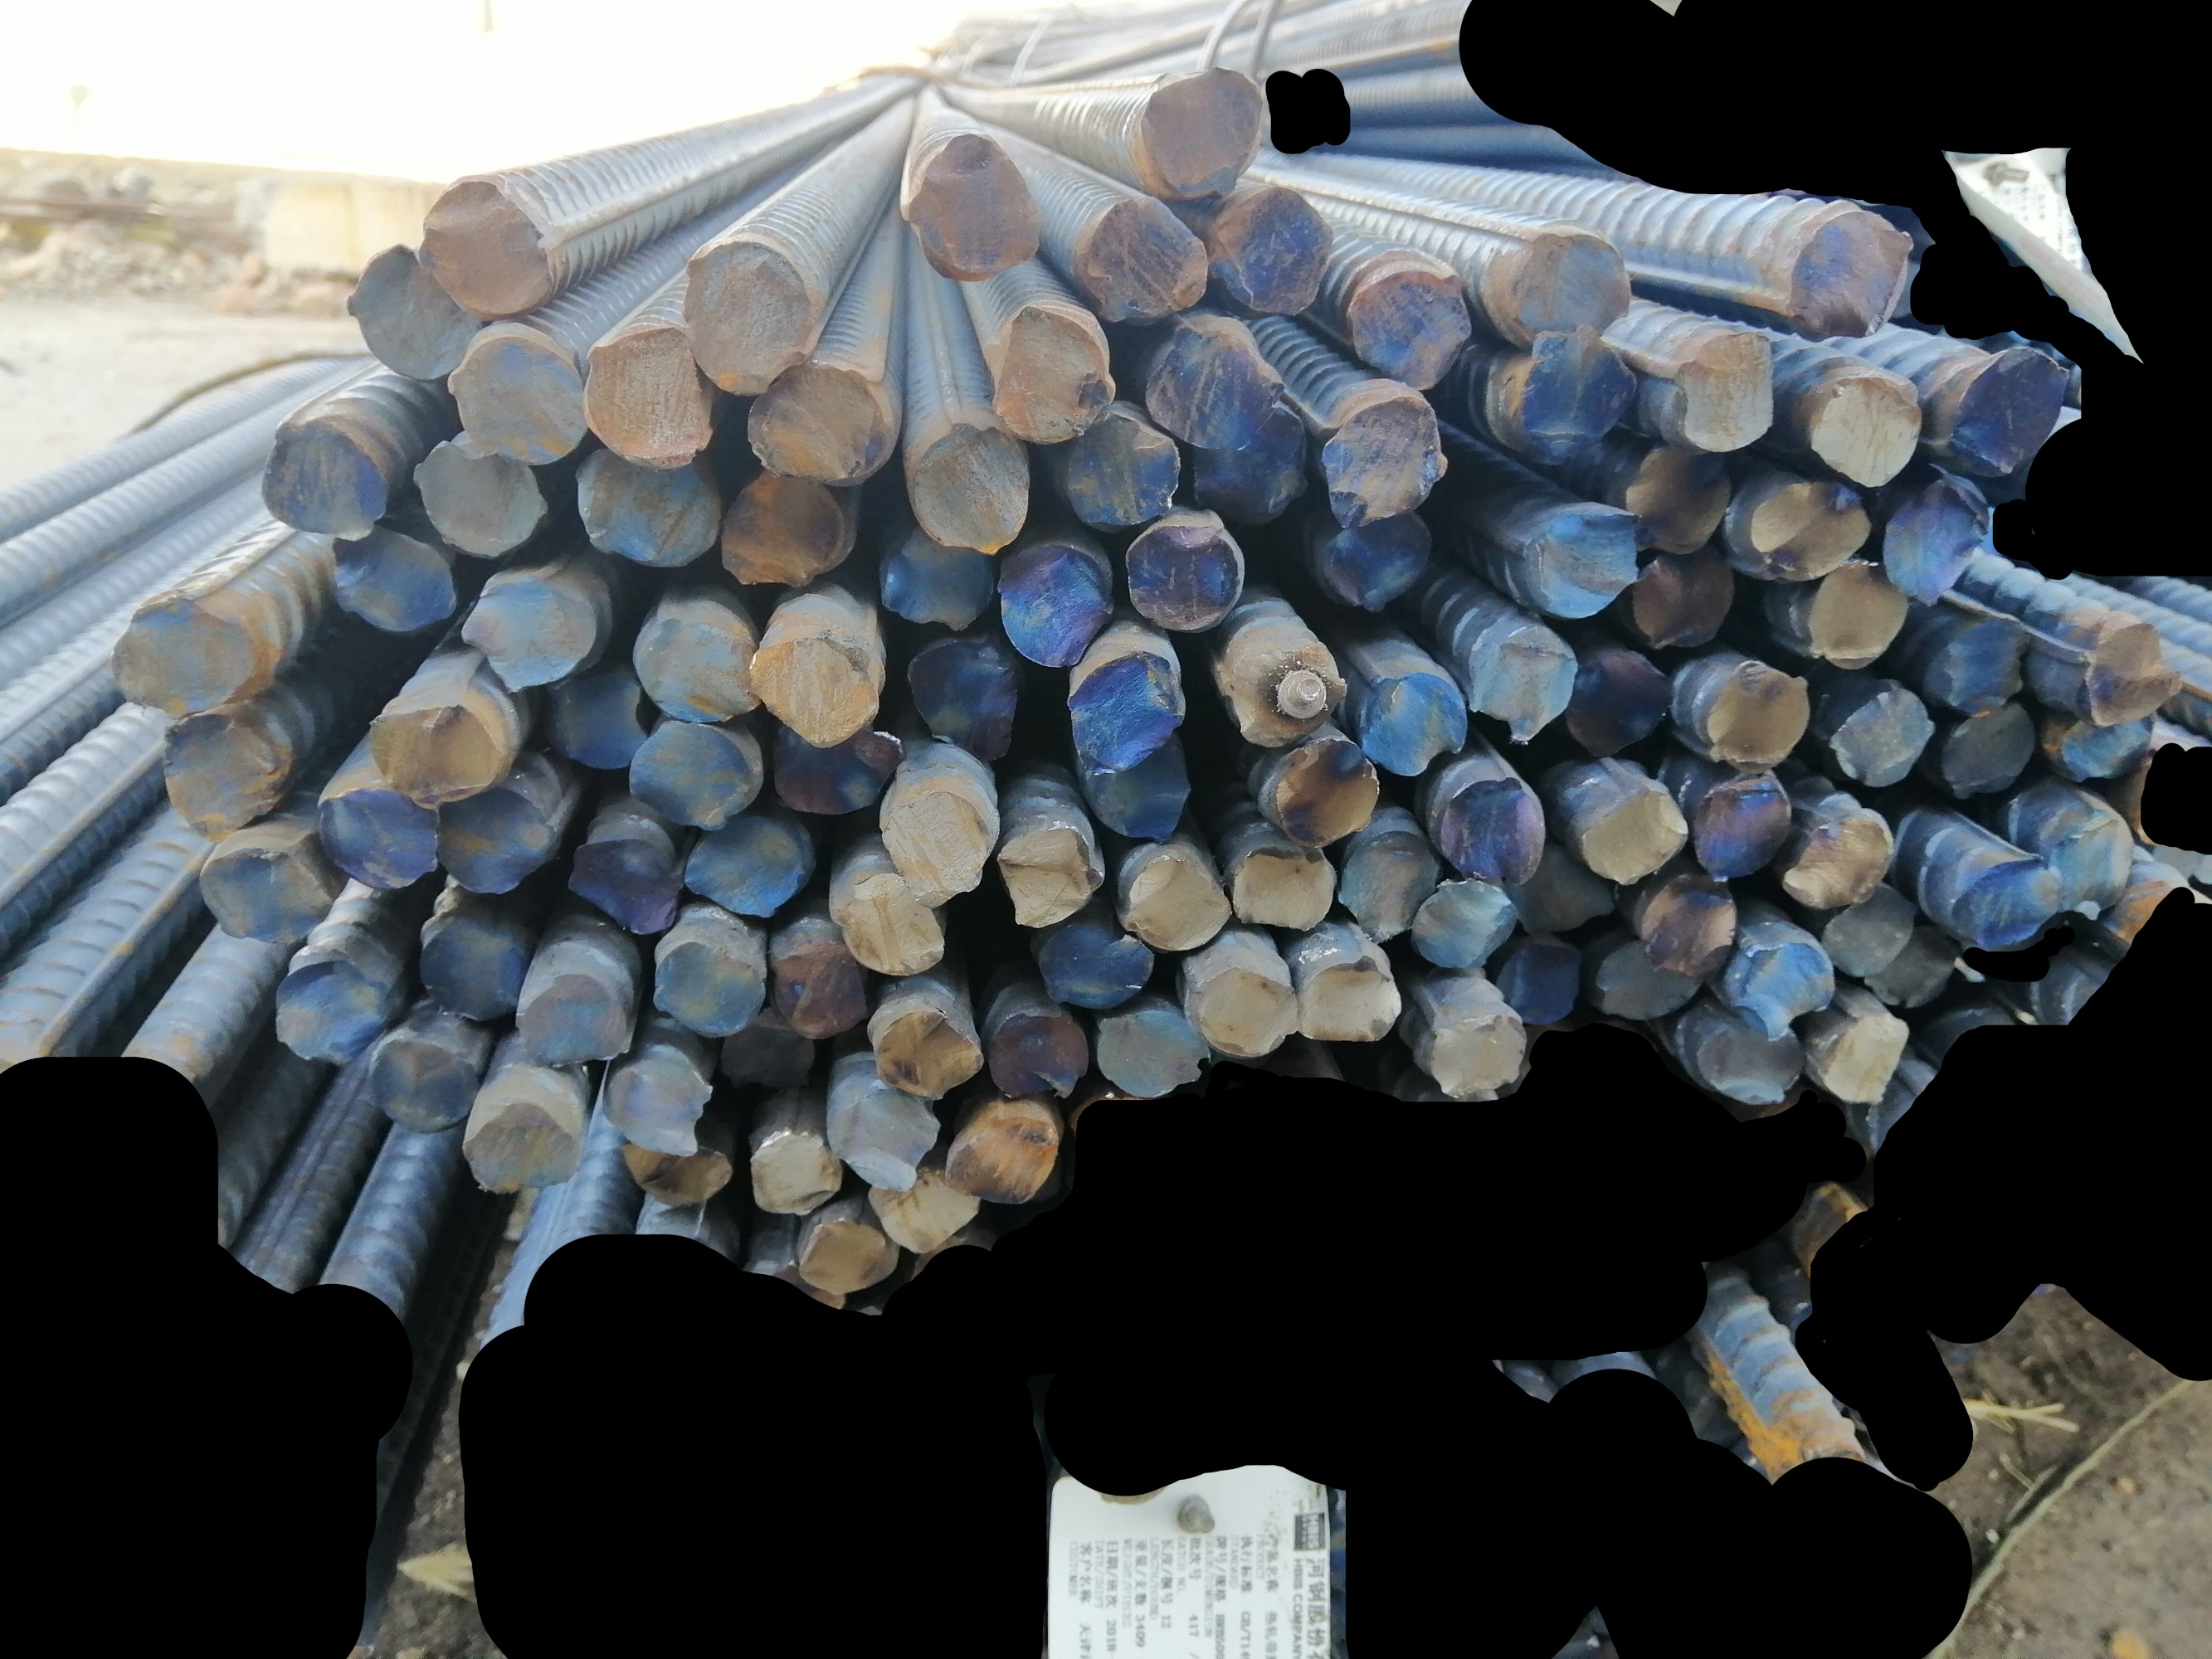rebar: (676, 240, 809, 401), (905, 131, 1042, 279), (103, 594, 267, 718), (415, 181, 560, 319), (563, 443, 722, 568), (336, 244, 476, 383), (715, 458, 856, 596), (441, 333, 586, 467), (737, 361, 891, 486), (579, 324, 711, 469), (1072, 193, 1211, 329), (905, 418, 1035, 561), (1133, 63, 1271, 197), (1781, 209, 1919, 343), (1320, 392, 1452, 532), (1143, 324, 1286, 453), (1510, 328, 1640, 467), (992, 307, 1119, 448), (1340, 263, 1475, 396), (157, 711, 293, 842), (411, 437, 547, 565), (1499, 232, 1640, 354), (1056, 406, 1184, 540), (1055, 652, 1192, 775), (1949, 336, 2071, 476), (251, 422, 392, 542), (905, 629, 1025, 770), (1211, 185, 1335, 321), (995, 537, 1117, 674), (359, 701, 507, 812), (316, 525, 464, 636), (457, 580, 603, 692), (744, 633, 880, 751), (1612, 434, 1740, 559), (624, 714, 757, 833), (877, 511, 999, 638), (1881, 472, 1996, 606), (1804, 364, 1924, 491), (1119, 521, 1246, 640), (265, 957, 397, 1070), (427, 788, 560, 901), (1745, 472, 1879, 584), (1522, 504, 1644, 626), (1191, 404, 1314, 525), (195, 847, 336, 950), (1663, 329, 1780, 453), (629, 613, 758, 725), (873, 789, 995, 906), (1327, 826, 1442, 950), (1225, 638, 1351, 751), (1468, 622, 1581, 748), (312, 784, 443, 892), (1314, 504, 1436, 617), (603, 1044, 720, 1161), (1075, 734, 1199, 843), (772, 714, 906, 816), (1700, 659, 1813, 777), (1632, 868, 1745, 985), (1429, 775, 1548, 887), (1351, 669, 1471, 779), (828, 871, 948, 979), (647, 936, 770, 1040), (1801, 558, 1912, 673), (1724, 934, 1841, 1044), (1560, 647, 1670, 763), (1780, 807, 1898, 915), (1635, 537, 1741, 657), (1829, 678, 1938, 791), (1574, 784, 1693, 889), (992, 823, 1105, 931), (1187, 957, 1302, 1063), (1919, 613, 2036, 718), (1691, 767, 1794, 885), (1271, 741, 1381, 850), (2074, 620, 2188, 727), (567, 836, 682, 941), (1117, 849, 1232, 953), (1034, 918, 1163, 1011), (941, 1108, 1063, 1206), (828, 1084, 938, 1190), (537, 678, 661, 772), (870, 1004, 985, 1105), (1691, 1014, 1809, 1112), (1410, 871, 1520, 976), (1503, 840, 1619, 938), (685, 821, 804, 917), (465, 1100, 586, 1194), (420, 915, 521, 1026), (1947, 854, 2069, 946), (368, 1037, 481, 1136), (1297, 946, 1403, 1051), (980, 1004, 1089, 1105), (1225, 836, 1339, 934), (1089, 1011, 1211, 1100), (519, 974, 634, 1068), (1811, 884, 1919, 983), (1590, 929, 1705, 1018), (1816, 1002, 1910, 1110), (1937, 704, 2041, 800), (861, 1173, 983, 1255), (2043, 812, 2135, 918), (1860, 925, 1968, 1014), (1419, 1014, 1530, 1100), (744, 1127, 844, 1222), (776, 941, 870, 1040), (1489, 936, 1588, 1026), (617, 1131, 734, 1206), (800, 1216, 903, 1297), (1503, 1018, 1593, 1107), (2055, 714, 2163, 788), (1571, 1009, 1663, 1093), (716, 1023, 819, 1098), (1203, 1035, 1283, 1082)
